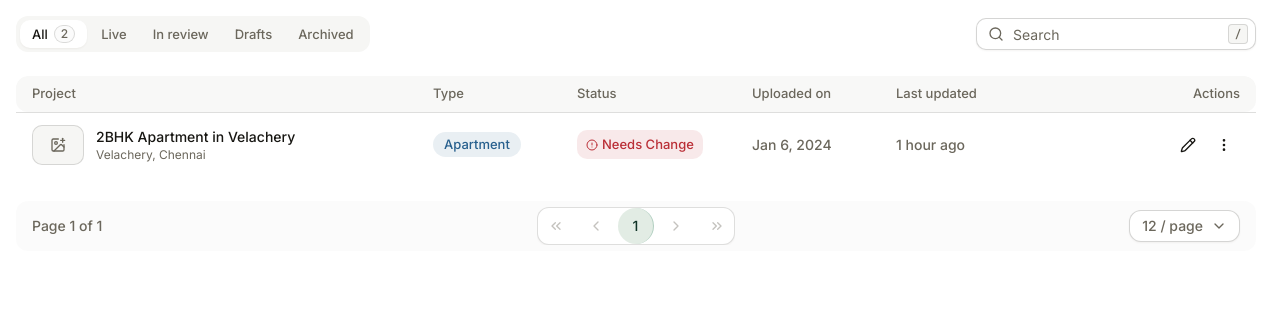
Scenario: DesignerProjectsList › explains changes_requested on keyboard focus and dismisses on Escape
Step 1. Focus the button with aria-label "Needs Change details" → (640, 144), box x1=577 y1=130 x2=703 y2=159
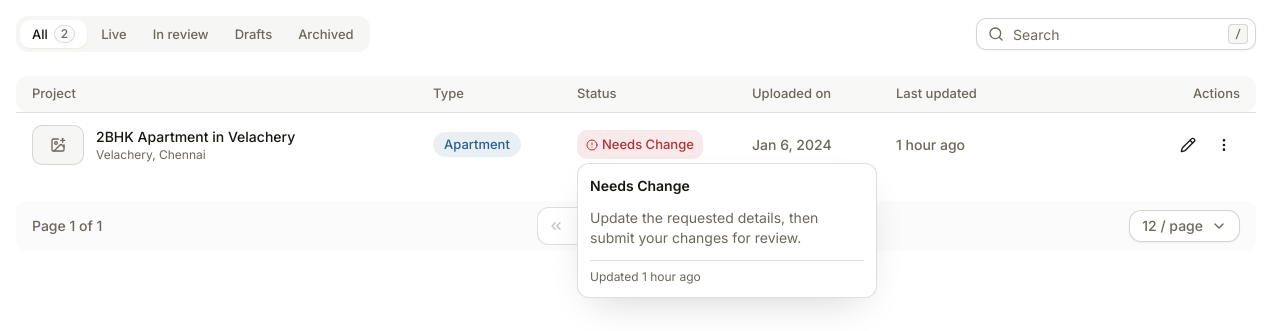
Expected: the tooltip shows "Update the requested details", x1=590 y1=209 x2=818 y2=246
Step 2. Press Escape
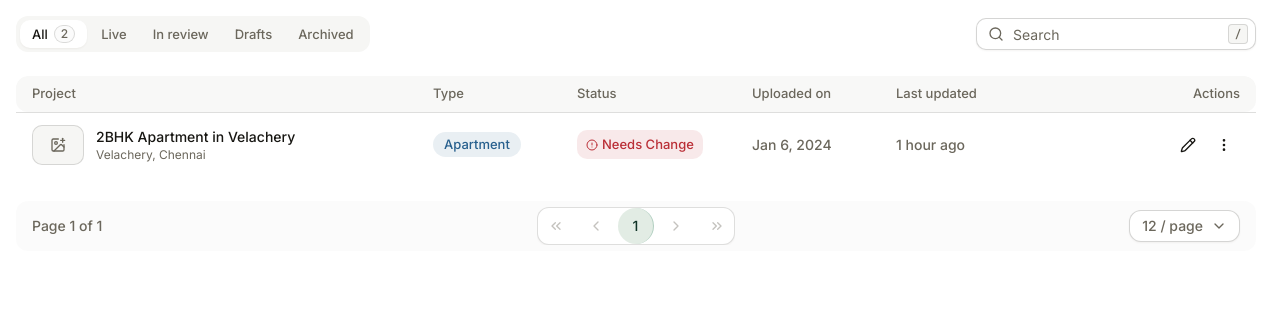
Expected: the tooltip "Needs Change Update the requested details, then submit your changes for review." is gone
